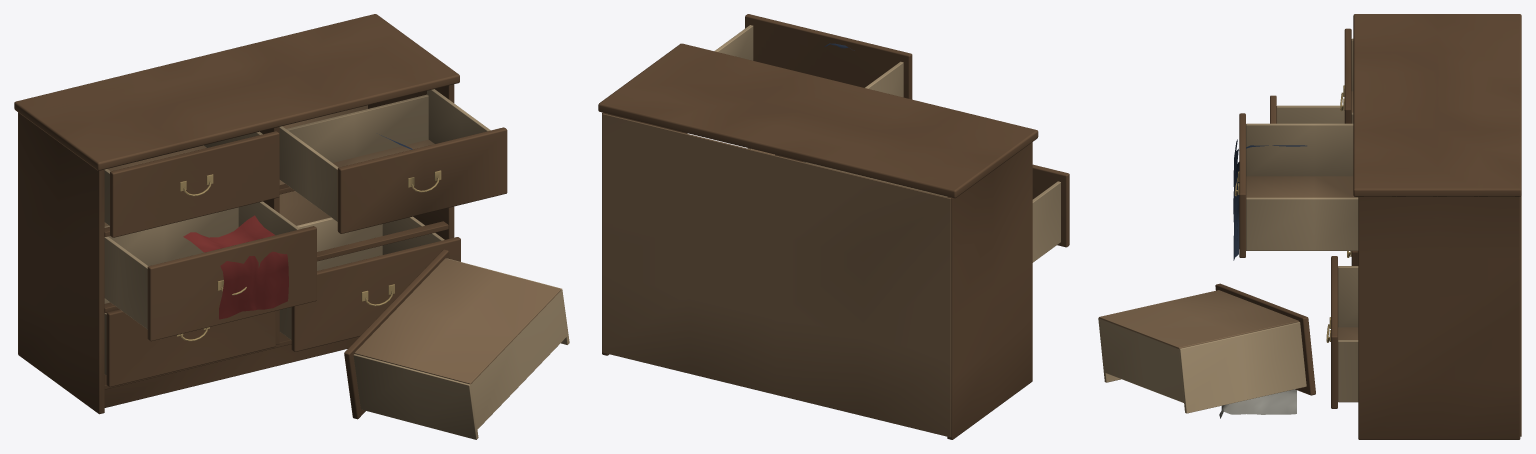
The model's file is dresser_open.glb.
3 views of the same model, side by side, from view 1: azimuth 30°, elevation 25°; view 2: azimuth 150°, elevation 25°; view 3: azimuth 270°, elevation 25° (orthographic).
Visible parts, largest first — view 1: dresser_open; view 2: dresser_open; view 3: dresser_open.
Part boxes in pixels (left/top/right/bottom): dresser_open: left=14, top=14, right=569, bottom=439; dresser_open: left=598, top=14, right=1069, bottom=439; dresser_open: left=1098, top=14, right=1521, bottom=439.
Bounding box in the file's own units: 1.31 × 0.8259 × 1.24.
